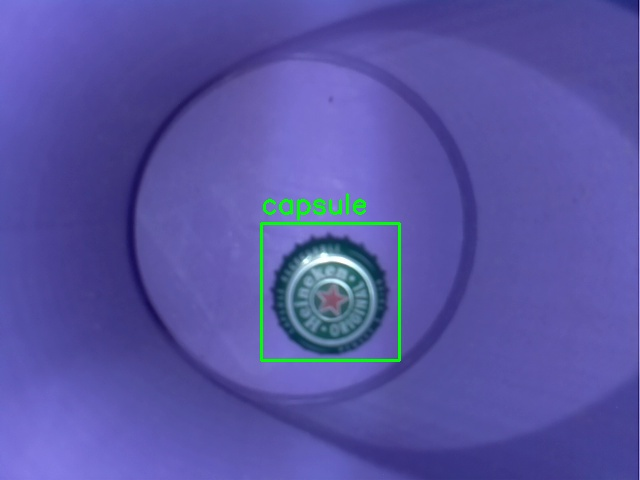capsule: (261, 223, 399, 360)
